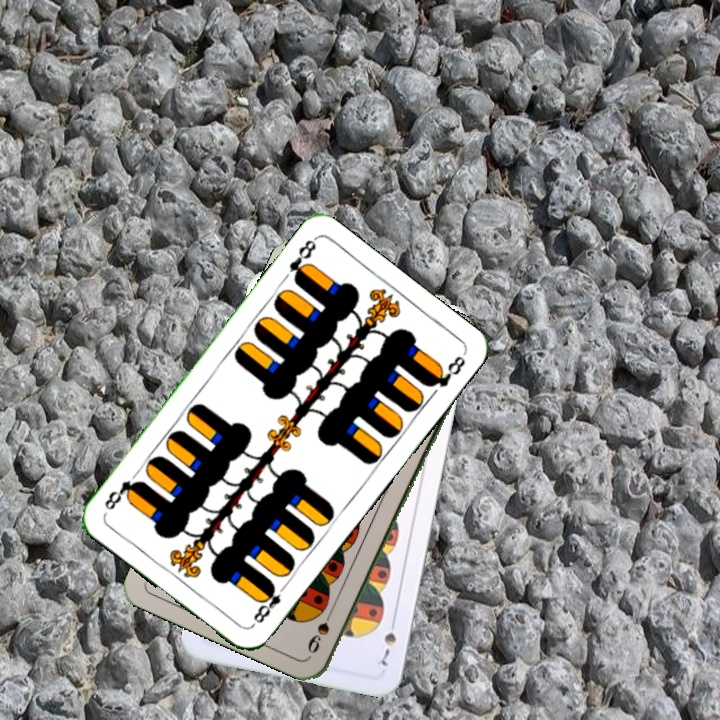E8: (248, 579, 290, 629), (284, 235, 319, 286)
S7: (377, 613, 399, 669)
S9: (304, 601, 338, 656)
